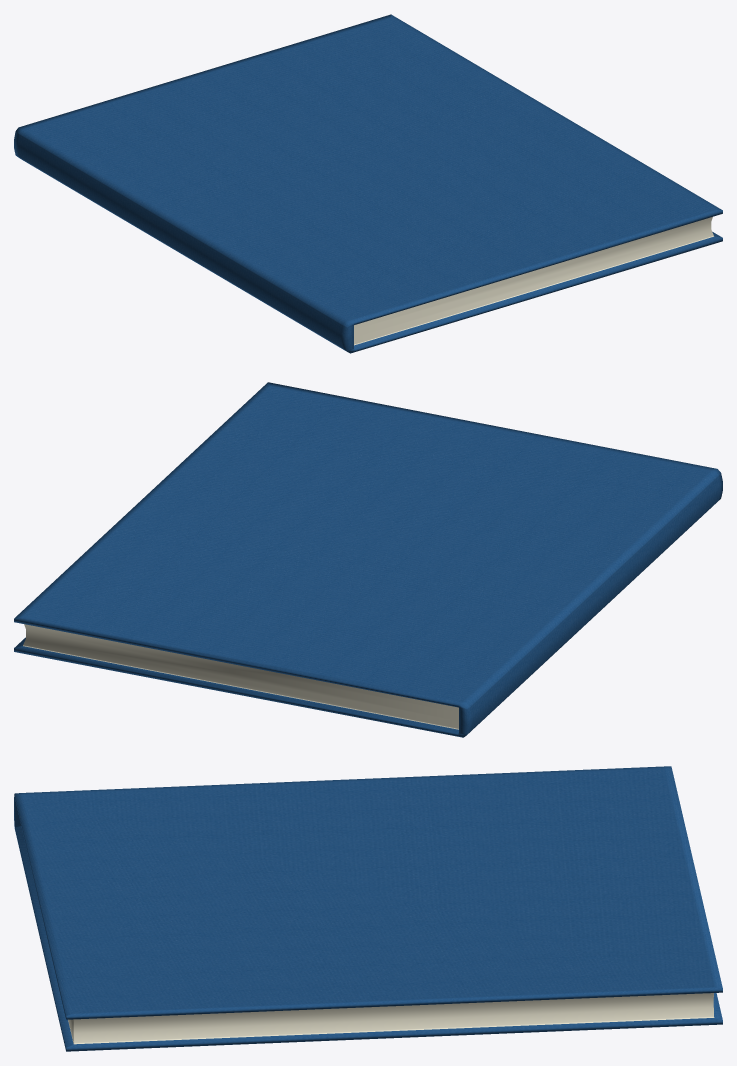
The model's file is Book1.fbx.
The picture shows the model from 3 angles, top to bottom: view 1: azimuth 30°, elevation 25°; view 2: azimuth 150°, elevation 25°; view 3: azimuth 270°, elevation 25°; orthographic projection. The views are drawn at different scales.
Parts seen in each view (by area): view 1: Book.001; view 2: Book.001; view 3: Book.001.
Part boxes in pixels (x1,y1,x2,y2): Book.001: [14, 14, 722, 353]; Book.001: [14, 382, 722, 737]; Book.001: [14, 766, 722, 1051].
Size of the model in its own units: 32.5 by 2.14 by 38.52.
1 material, 1 textured.
